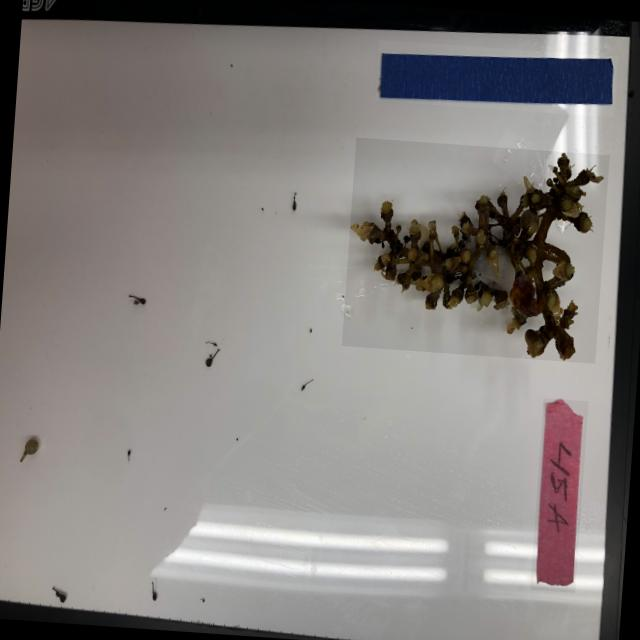index: (529, 398, 587, 592)
measure_label: (373, 39, 618, 117)
rachis_cluster: (341, 137, 608, 363)
